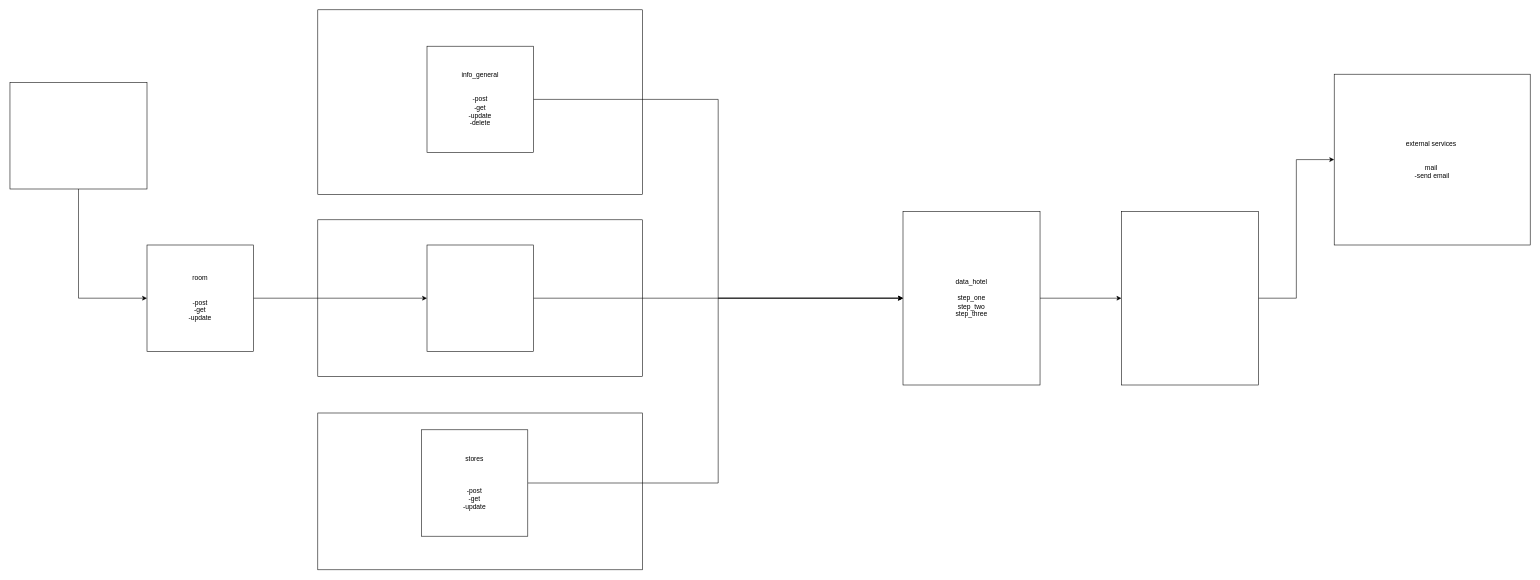
The diagram is 1540 pixels wide and 580 high, and some of its shapes have lost their labels. Here are the shapes that lost their labels. From the top down, the box of each, then its label:
(9, 82, 147, 189): guests -post -get
(426, 244, 533, 351): blocks -post -get -update
(1121, 211, 1258, 385): users -post -get authentications JWT
